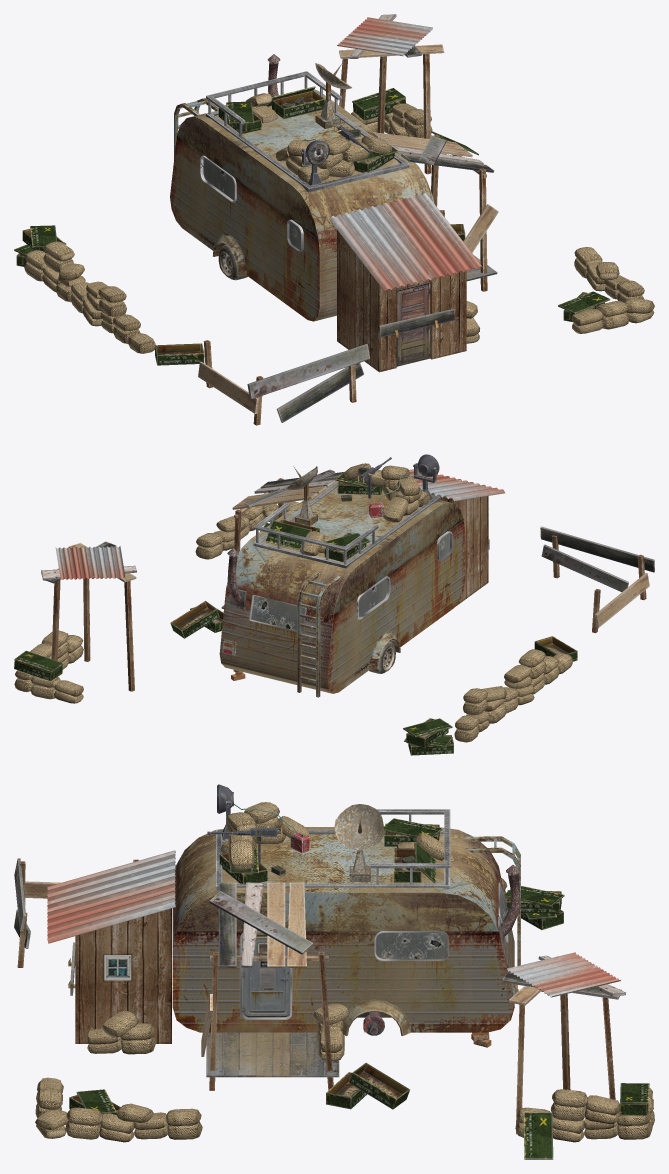
File: mh_module_roulotte_000.fbx
3 renders of one model, top to bottom at view 1: azimuth 30°, elevation 25°; view 2: azimuth 150°, elevation 25°; view 3: azimuth 270°, elevation 25°, orthographic. The views are drawn at different scales.
Parts seen in each view (by area): view 1: polySurface369, corrugate_planks, wood_9, wood_8, wood_7, planks_2, box1, planks_1, boxcap1; view 2: polySurface369, corrugate_planks, wood_9, wood_8, wood_7, box3, planks_3, planks_2, planks_1, box1, boxcap2, boxcap5 (+2 smaller); view 3: polySurface369, corrugate_planks, box3, boxcap3, planks_1, planks_2, box2, planks_3, wood_9, boxcap1, boxcap5, boxcap2 (+4 smaller).
Part boxes in pixels (x1,y1,x2,y2): polySurface369: (170,54,498,372); corrugate_planks: (337,14,432,58); wood_9: (247,344,370,425); wood_8: (276,363,363,422); wood_7: (198,340,258,413); planks_2: (339,44,444,174); box1: (155,343,204,365); planks_1: (377,45,422,133); boxcap1: (558,291,610,313); polySurface369: (219,454,504,697); corrugate_planks: (41,546,136,580); wood_9: (540,526,654,600); wood_8: (541,535,628,591); wood_7: (592,573,649,633); box3: (170,601,219,638); planks_3: (124,581,134,691); planks_2: (68,543,136,661); planks_1: (42,541,116,660); box1: (534,636,577,661); boxcap2: (14,650,63,672); boxcap5: (403,718,452,737); polySurface369: (47,784,520,1090); corrugate_planks: (507,952,625,997); box3: (349,1062,410,1109); boxcap3: (523,1112,553,1159); planks_1: (502,972,621,1099); planks_2: (509,956,558,1134); box2: (326,1072,367,1109); planks_3: (560,994,570,1089); wood_9: (14,858,25,932); boxcap1: (76,1089,116,1113); boxcap5: (504,886,564,906); boxcap2: (620,1083,649,1103).
Bounding box in the file's own units: 11.05 × 4.56 × 11.52.
